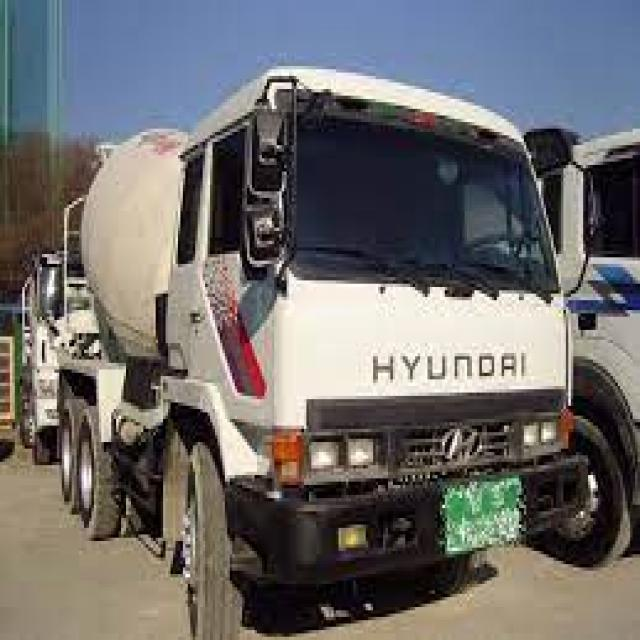Mixer Truck: (58, 65, 590, 640), (459, 125, 640, 570), (17, 250, 103, 464)
